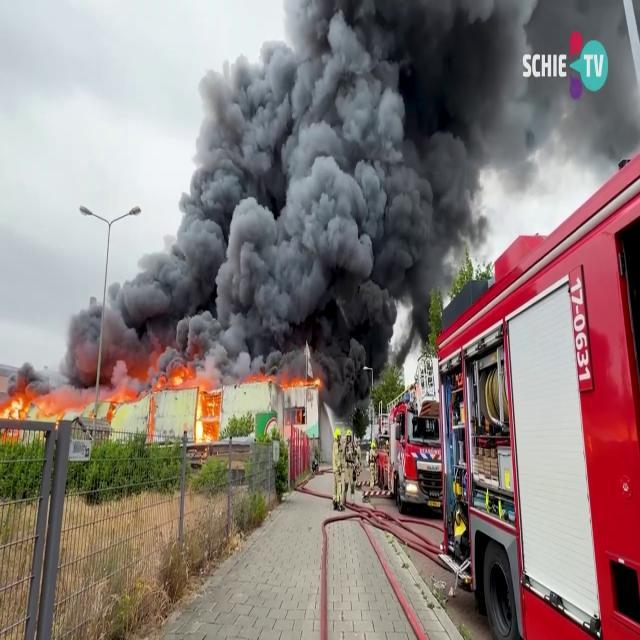Fire: (0, 363, 225, 451)
Smoke: (60, 1, 516, 383), (506, 4, 640, 185)
